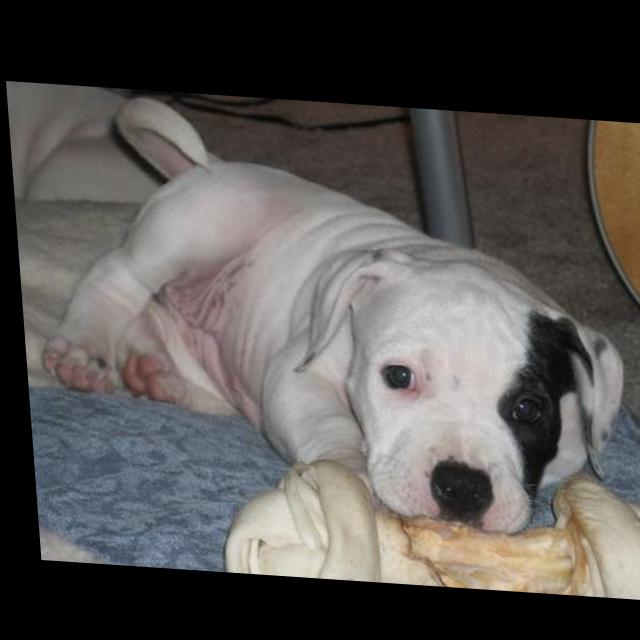amstaff: (20, 87, 632, 536)
